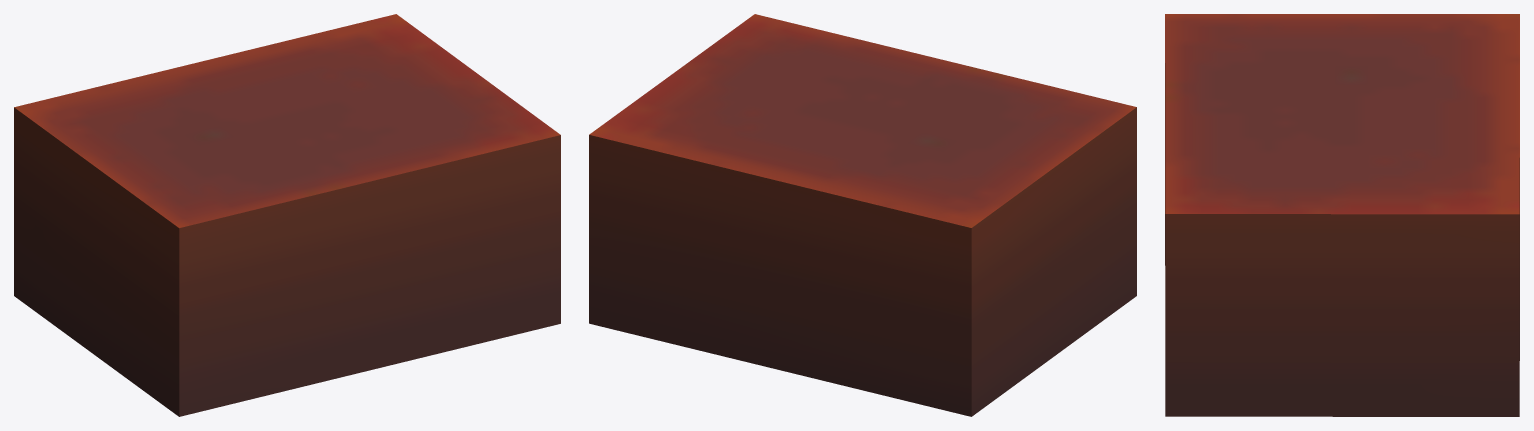
The model's file is cs_yanjiangchengbao_tongluzhuan_013.FBX.
3 views of the same model, side by side, from view 1: azimuth 30°, elevation 25°; view 2: azimuth 150°, elevation 25°; view 3: azimuth 270°, elevation 25° (orthographic). The views are drawn at different scales.
Visible parts, largest first — view 1: cs_yanjiangchengbao_tongluzhuan_013; view 2: cs_yanjiangchengbao_tongluzhuan_013; view 3: cs_yanjiangchengbao_tongluzhuan_013.
Boxes of the visible parts, x1,y1,x2,y2 form: cs_yanjiangchengbao_tongluzhuan_013: [14, 14, 560, 416]; cs_yanjiangchengbao_tongluzhuan_013: [589, 14, 1136, 416]; cs_yanjiangchengbao_tongluzhuan_013: [1165, 14, 1519, 416].
Bounding box in the file's own units: 24.01 × 17.97 × 11.32.
